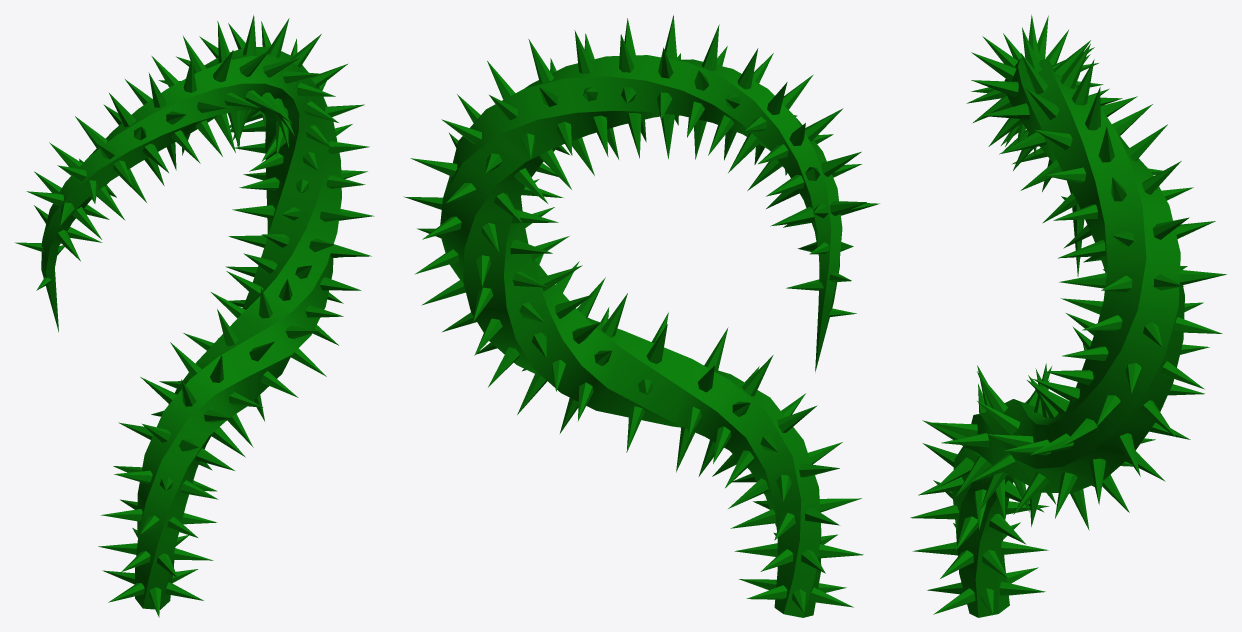
File: Mesh_Espinafix_v001.fbx
3 views of the same model, side by side, from view 1: azimuth 30°, elevation 25°; view 2: azimuth 150°, elevation 25°; view 3: azimuth 270°, elevation 25° (orthographic). The views are drawn at different scales.
Visible parts, largest first — view 1: Mesh_Tallo_V1; view 2: Mesh_Tallo_V1; view 3: Mesh_Tallo_V1, Mesh_Espinas_V1_45, Mesh_Espinas_V1_61, Mesh_Espinas_V1_127, Mesh_Espinas_V1_57, Mesh_Espinas_V1_51, Mesh_Espinas_V1_102, Mesh_Espinas_V1_121, Mesh_Espinas_V1_67, Mesh_Espinas_V1_131, Mesh_Espinas_V1_44, Mesh_Espinas_V1_63.
Boxes of the visible parts, x1=… form: Mesh_Tallo_V1: x1=41, y1=47, x2=341, y2=609; Mesh_Tallo_V1: x1=440, y1=55, x2=842, y2=617; Mesh_Tallo_V1: x1=952, y1=58, x2=1184, y2=617; Mesh_Espinas_V1_45: x1=970, y1=453, x2=1016, y2=482; Mesh_Espinas_V1_61: x1=1027, y1=380, x2=1069, y2=414; Mesh_Espinas_V1_127: x1=1060, y1=43, x2=1090, y2=88; Mesh_Espinas_V1_57: x1=1055, y1=472, x2=1077, y2=518; Mesh_Espinas_V1_51: x1=1013, y1=472, x2=1049, y2=514; Mesh_Espinas_V1_102: x1=1058, y1=240, x2=1105, y2=258; Mesh_Espinas_V1_121: x1=1071, y1=59, x2=1094, y2=105; Mesh_Espinas_V1_67: x1=1032, y1=378, x2=1079, y2=402; Mesh_Espinas_V1_131: x1=982, y1=103, x2=1029, y2=119; Mesh_Espinas_V1_44: x1=977, y1=401, x2=1020, y2=434; Mesh_Espinas_V1_63: x1=1089, y1=458, x2=1105, y2=504.
Bounding box in the file's own units: 974 × 1309 × 612.
